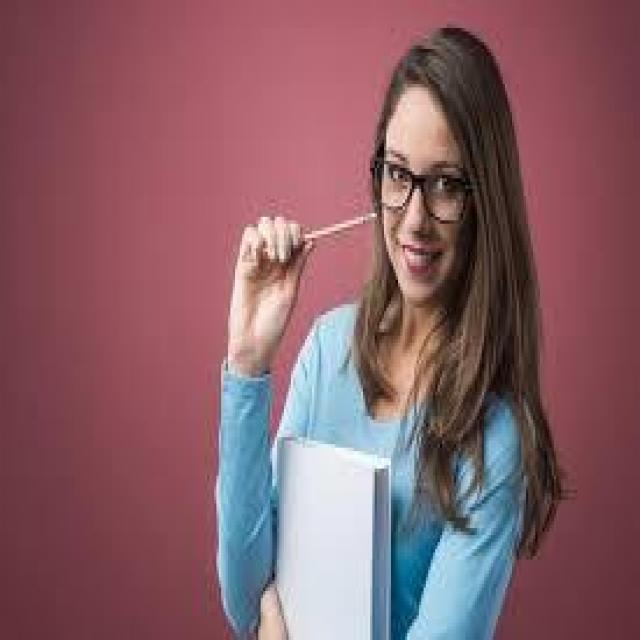person: (217, 24, 542, 636)
